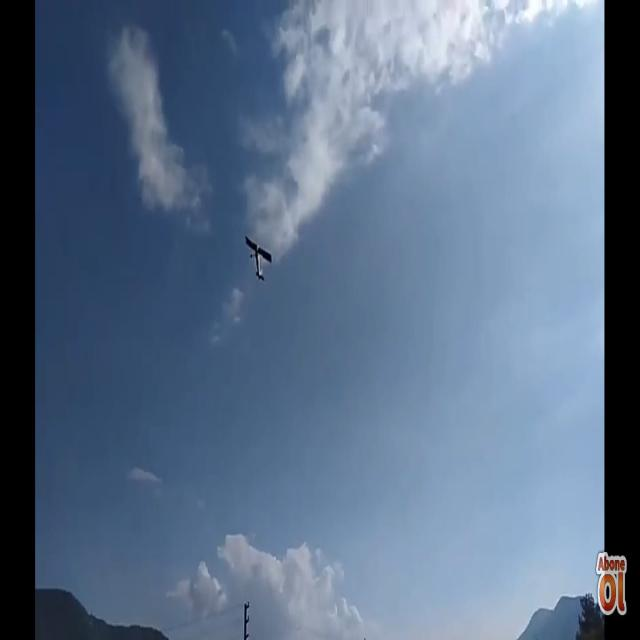iha: (245, 235, 273, 283)
